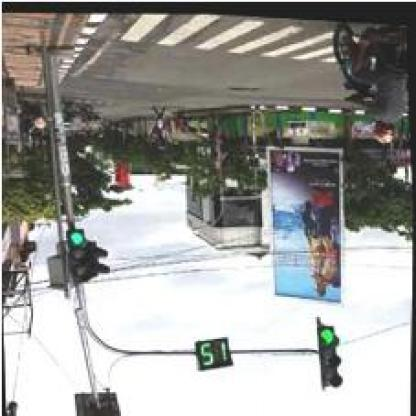green: (319, 318, 341, 386), (65, 228, 89, 285)
